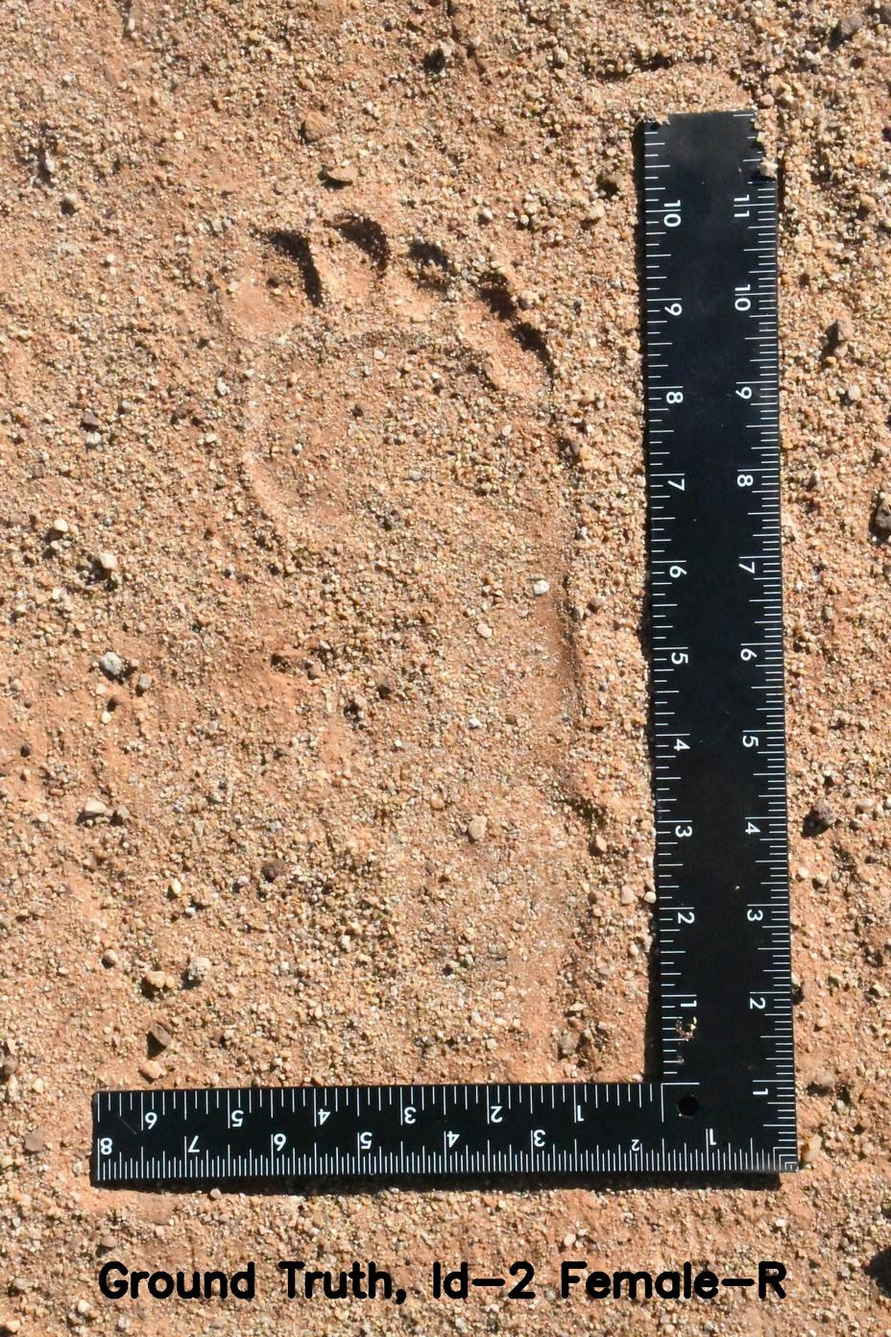human_footprint: (177, 177, 628, 1059)
